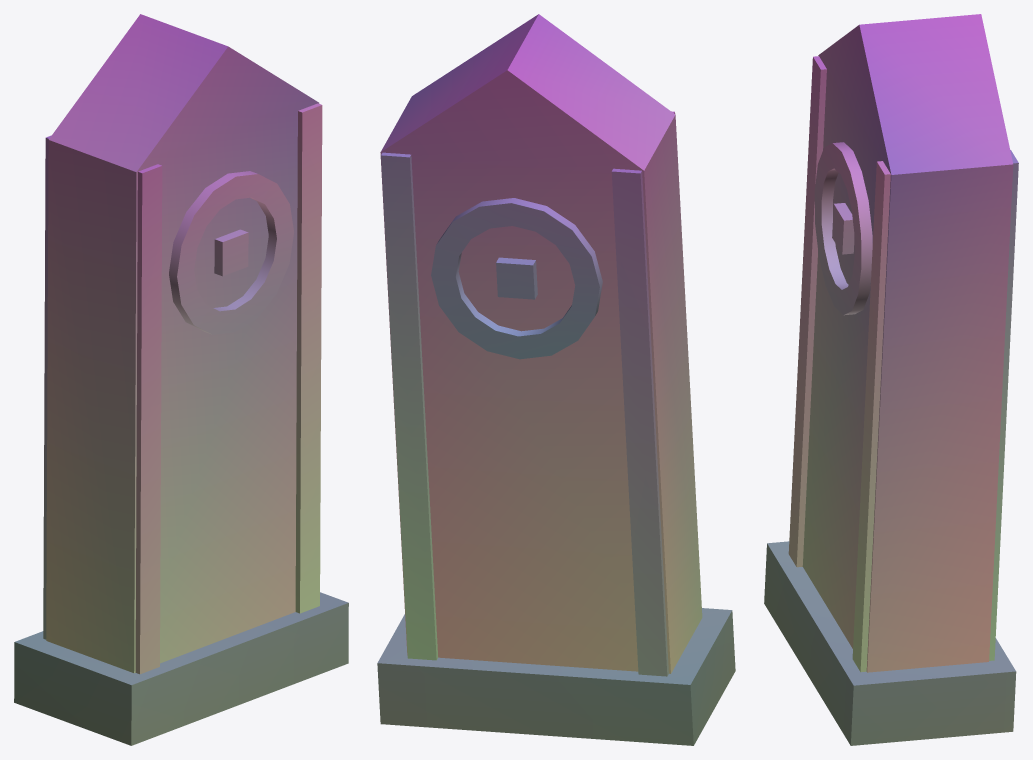
Rendered from waystone.glb.
3 renders of one model, left to right at view 1: azimuth 30°, elevation 25°; view 2: azimuth 150°, elevation 25°; view 3: azimuth 270°, elevation 25°, orthographic. The views are drawn at different scales.
Visible parts, largest first — view 1: waystone, way_ring, way_base; view 2: waystone, way_ring, way_base; view 3: waystone, way_ring, way_base.
Part boxes in pixels (x1,y1,x2,y2): waystone: (46,14,319,673); way_ring: (43,103,322,674); way_base: (14,592,348,745); waystone: (380,14,702,673); way_ring: (381,111,675,676); way_base: (377,608,735,745); waystone: (802,14,1013,672); way_ring: (788,56,1018,672); way_base: (764,541,1016,745).
Size of the model in its own units: 0.8445 by 1.74 by 0.6031.
